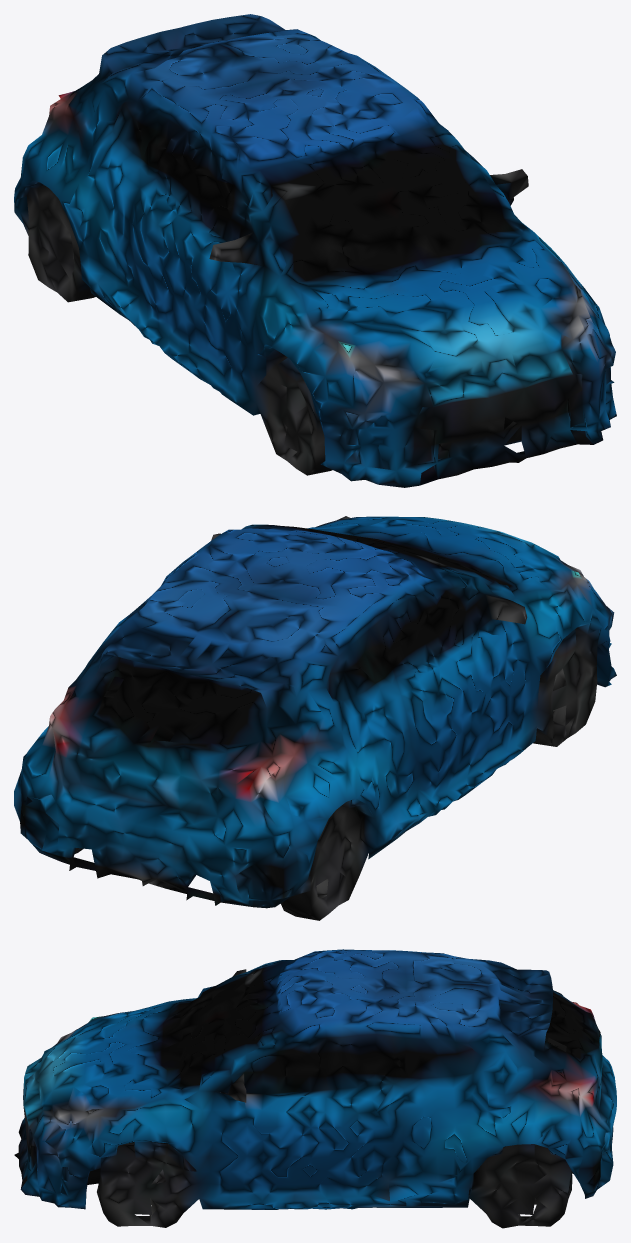
The model's file is car_blue.1.glb.
The picture shows the model from 3 angles, top to bottom: view 1: azimuth 30°, elevation 25°; view 2: azimuth 150°, elevation 25°; view 3: azimuth 270°, elevation 25°; orthographic projection. The views are drawn at different scales.
Parts seen in each view (by area): view 1: lod; view 2: lod; view 3: lod.
Boxes of the visible parts, bbox=[...] form: lod: bbox=[14, 14, 616, 487]; lod: bbox=[14, 516, 616, 920]; lod: bbox=[14, 949, 616, 1228].
Bounding box in the file's own units: 0.4846 × 0.3488 × 0.9897.
